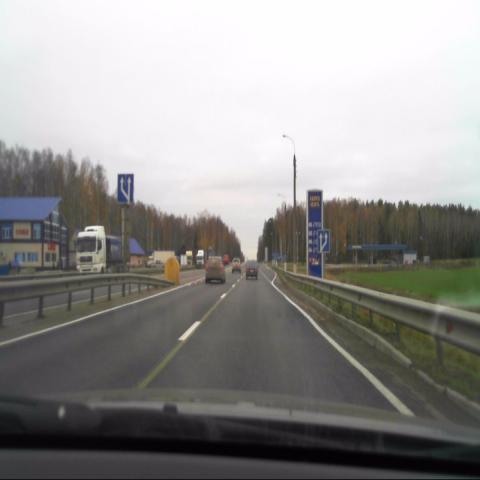5_15_3: (116, 172, 133, 204)
